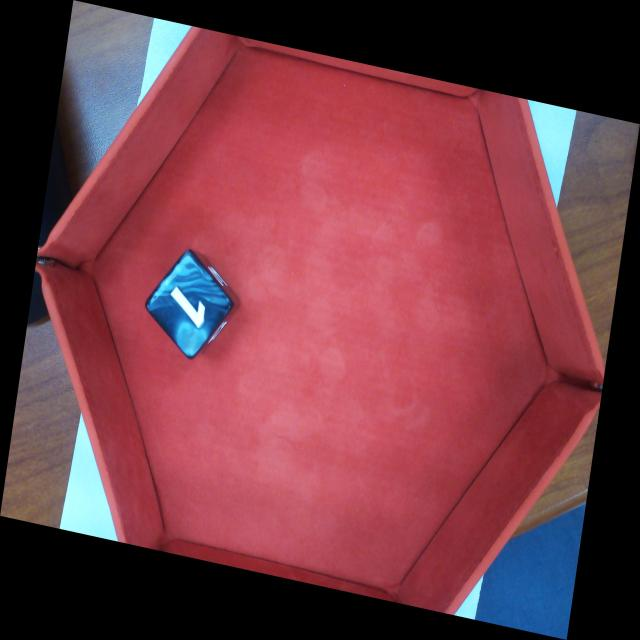dice: (150, 253, 230, 356)
